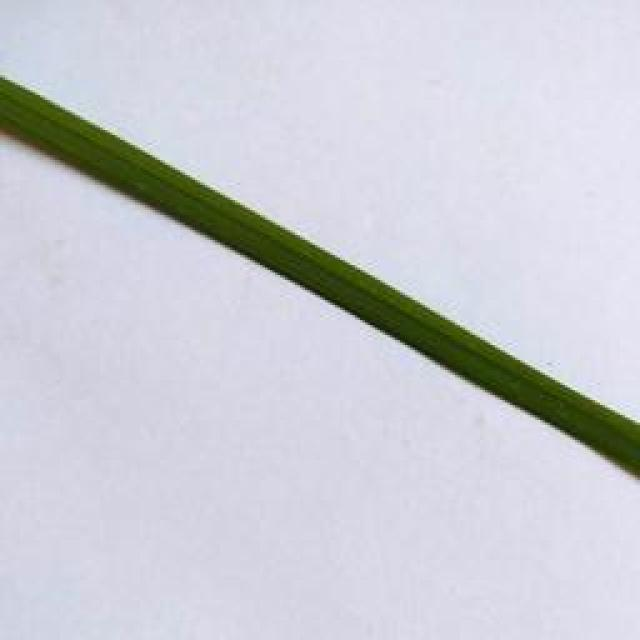Healthy-Plant: (0, 80, 640, 475)
